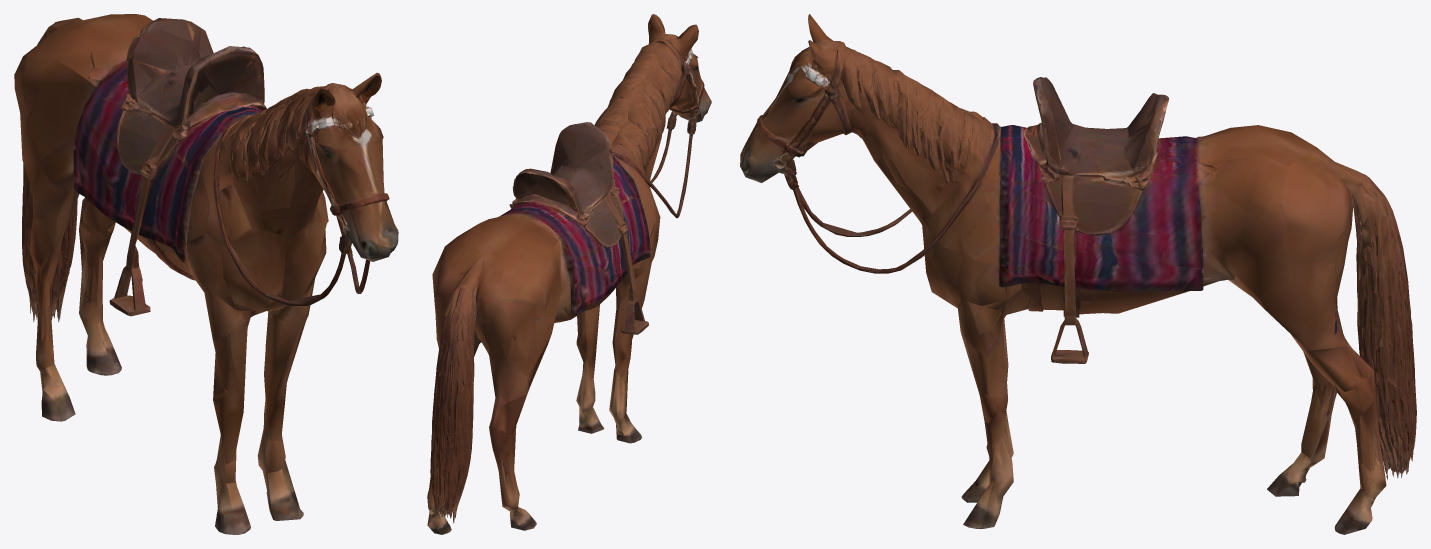
File: horse_light.glb
3 views of the same model, side by side, from view 1: azimuth 30°, elevation 25°; view 2: azimuth 150°, elevation 25°; view 3: azimuth 270°, elevation 25° (orthographic). The views are drawn at different scales.
Size of the model in its own units: 0.5782 by 1.49 by 1.9.
Materials: 1 (1 with a texture image).
